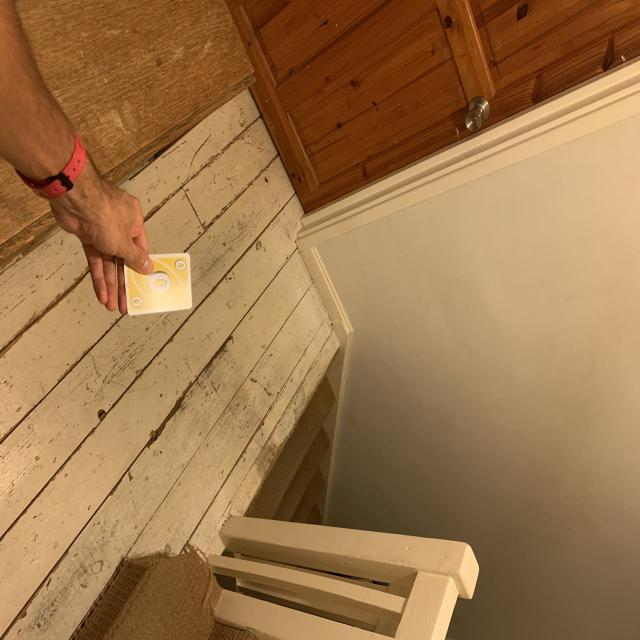lyellow-0: (172, 258, 188, 272)
